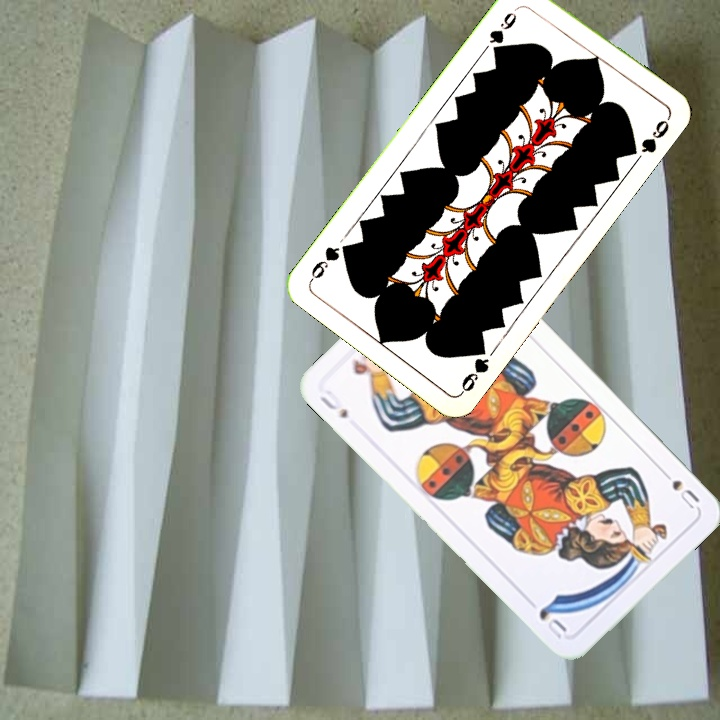G9: (485, 2, 524, 57), (456, 339, 492, 397)
SU: (655, 464, 702, 512), (315, 386, 351, 421)
